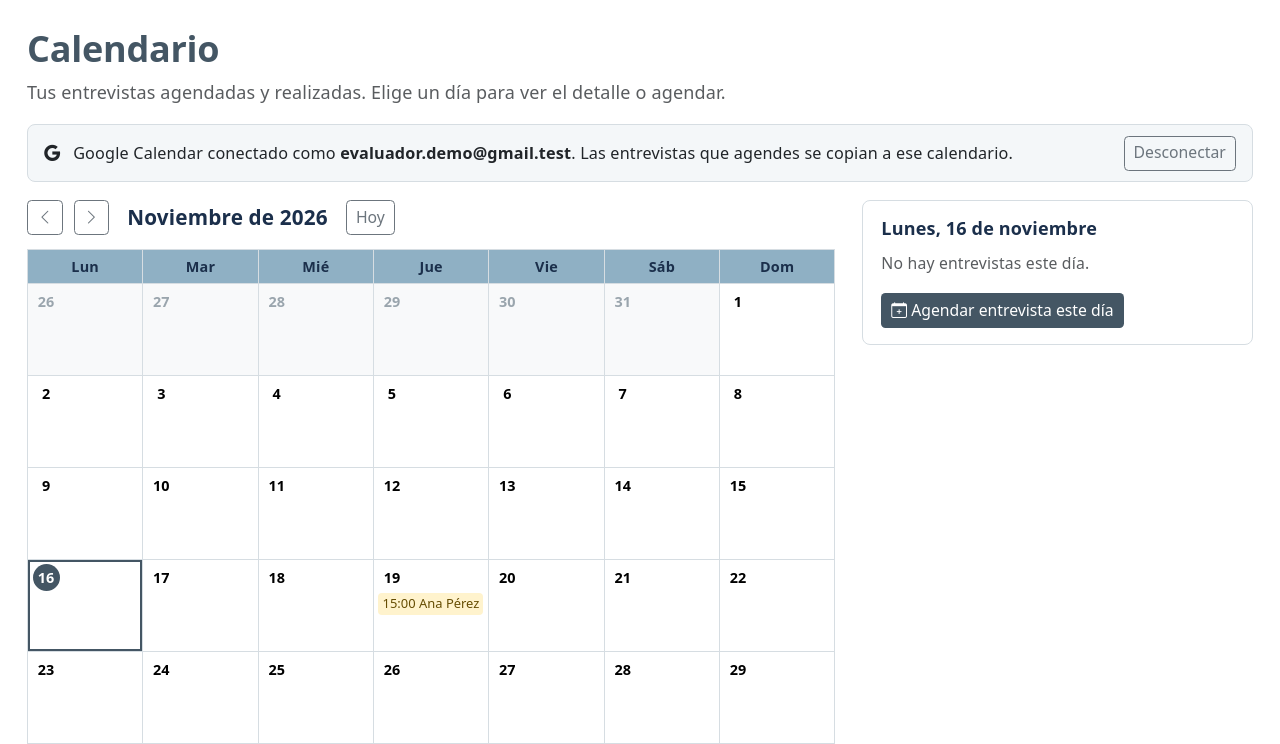
Test: Calendario › ofrece enviar a Google una entrevista agendada que no está sincronizada
This screenshot has width=1280, height=744.
Expected: the text "15:00 Ana Pérez" is shown, [378,593,483,615]
Click the button with aria-label "19 de noviembre".
click(432, 606)  # box [374,560,489,652]
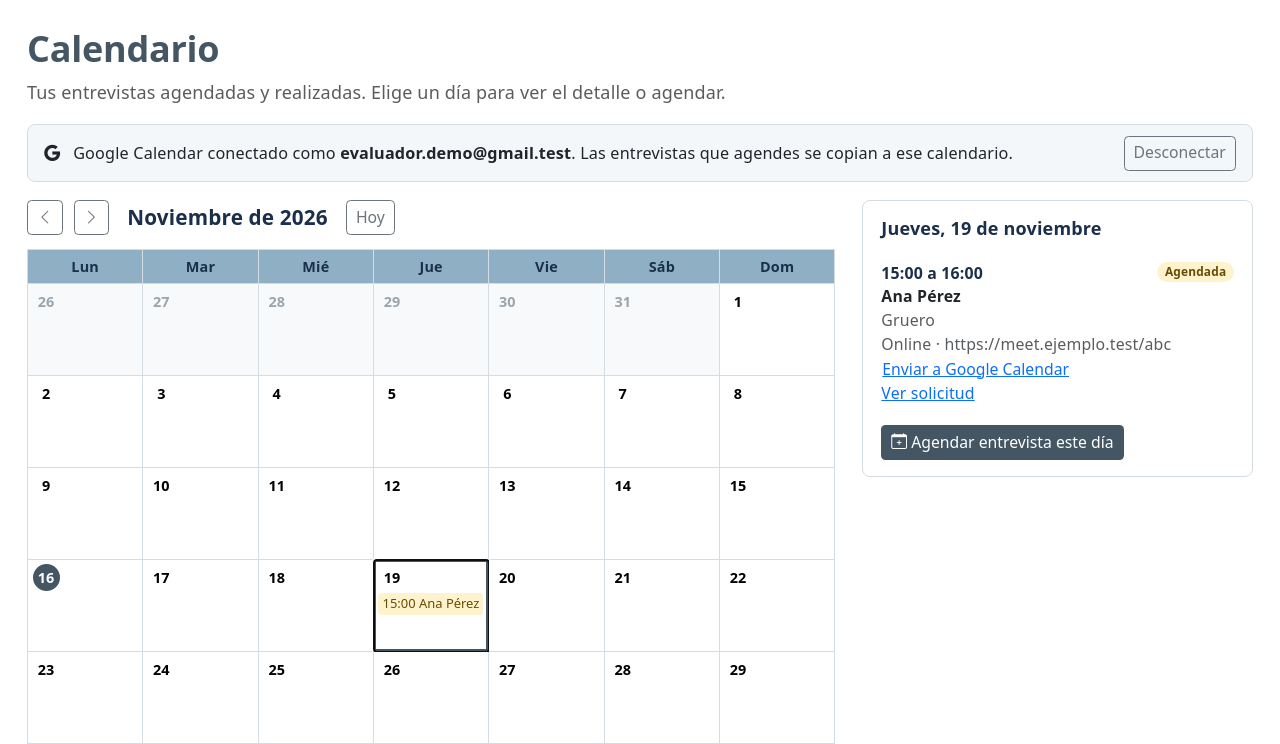
Click the button "Enviar a Google Calendar".
click(976, 370)  # box [881,357,1070,382]
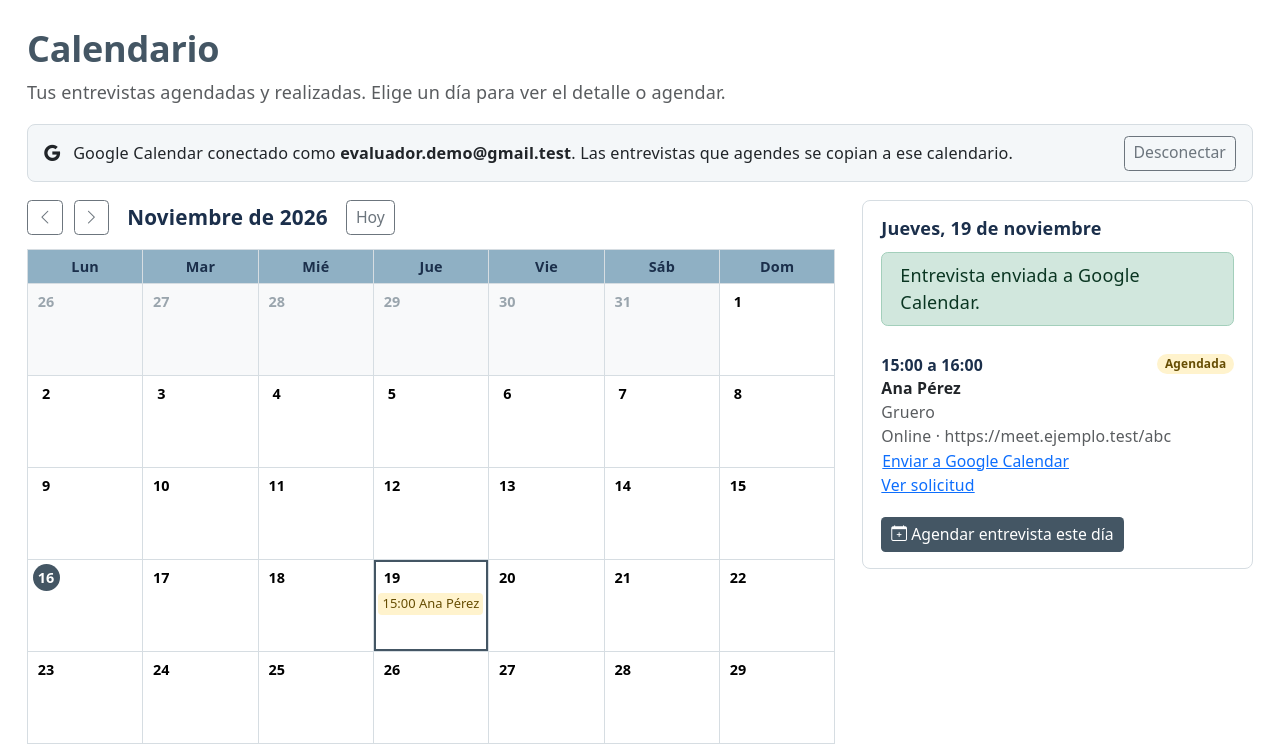
Result: the text "Entrevista enviada a Google Calendar." is shown at [881,252,1234,326]
